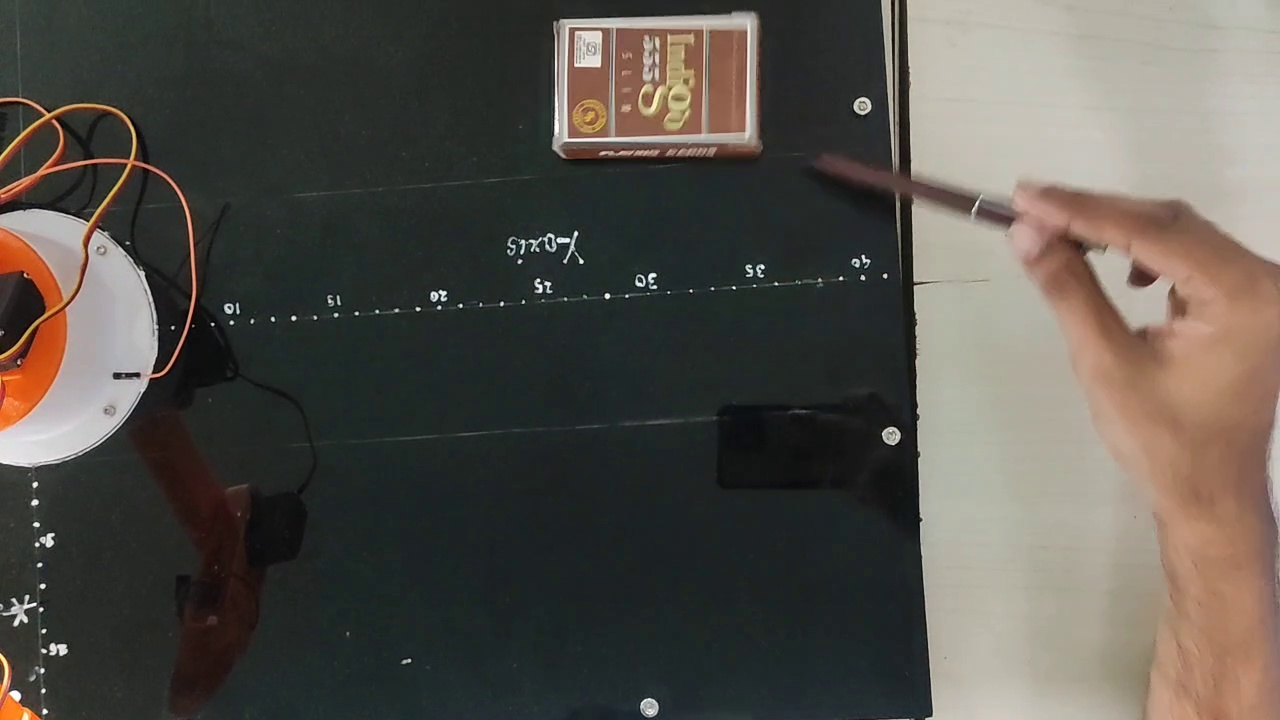BEX: (563, 23, 751, 138)
